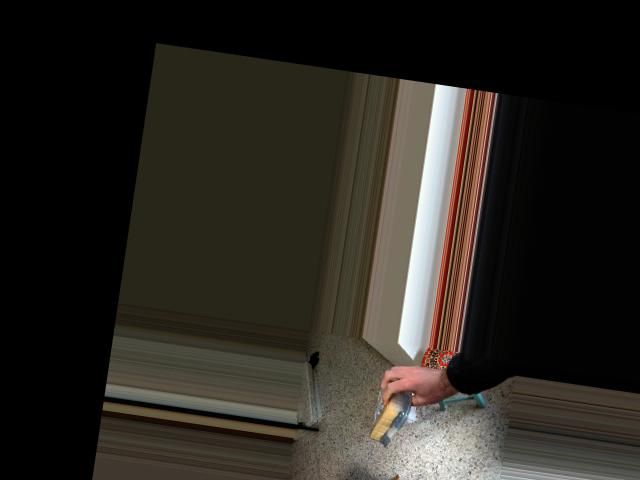cheese: (368, 361, 419, 454)
